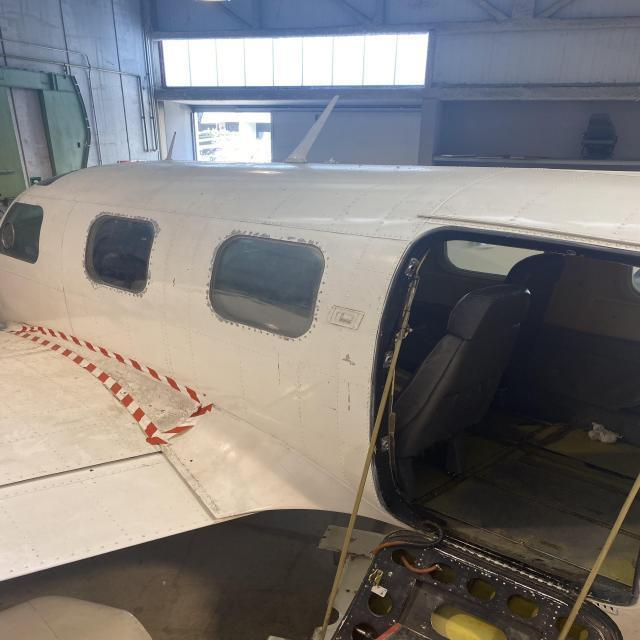Rupture: (20, 322, 34, 327), (5, 320, 21, 324)
